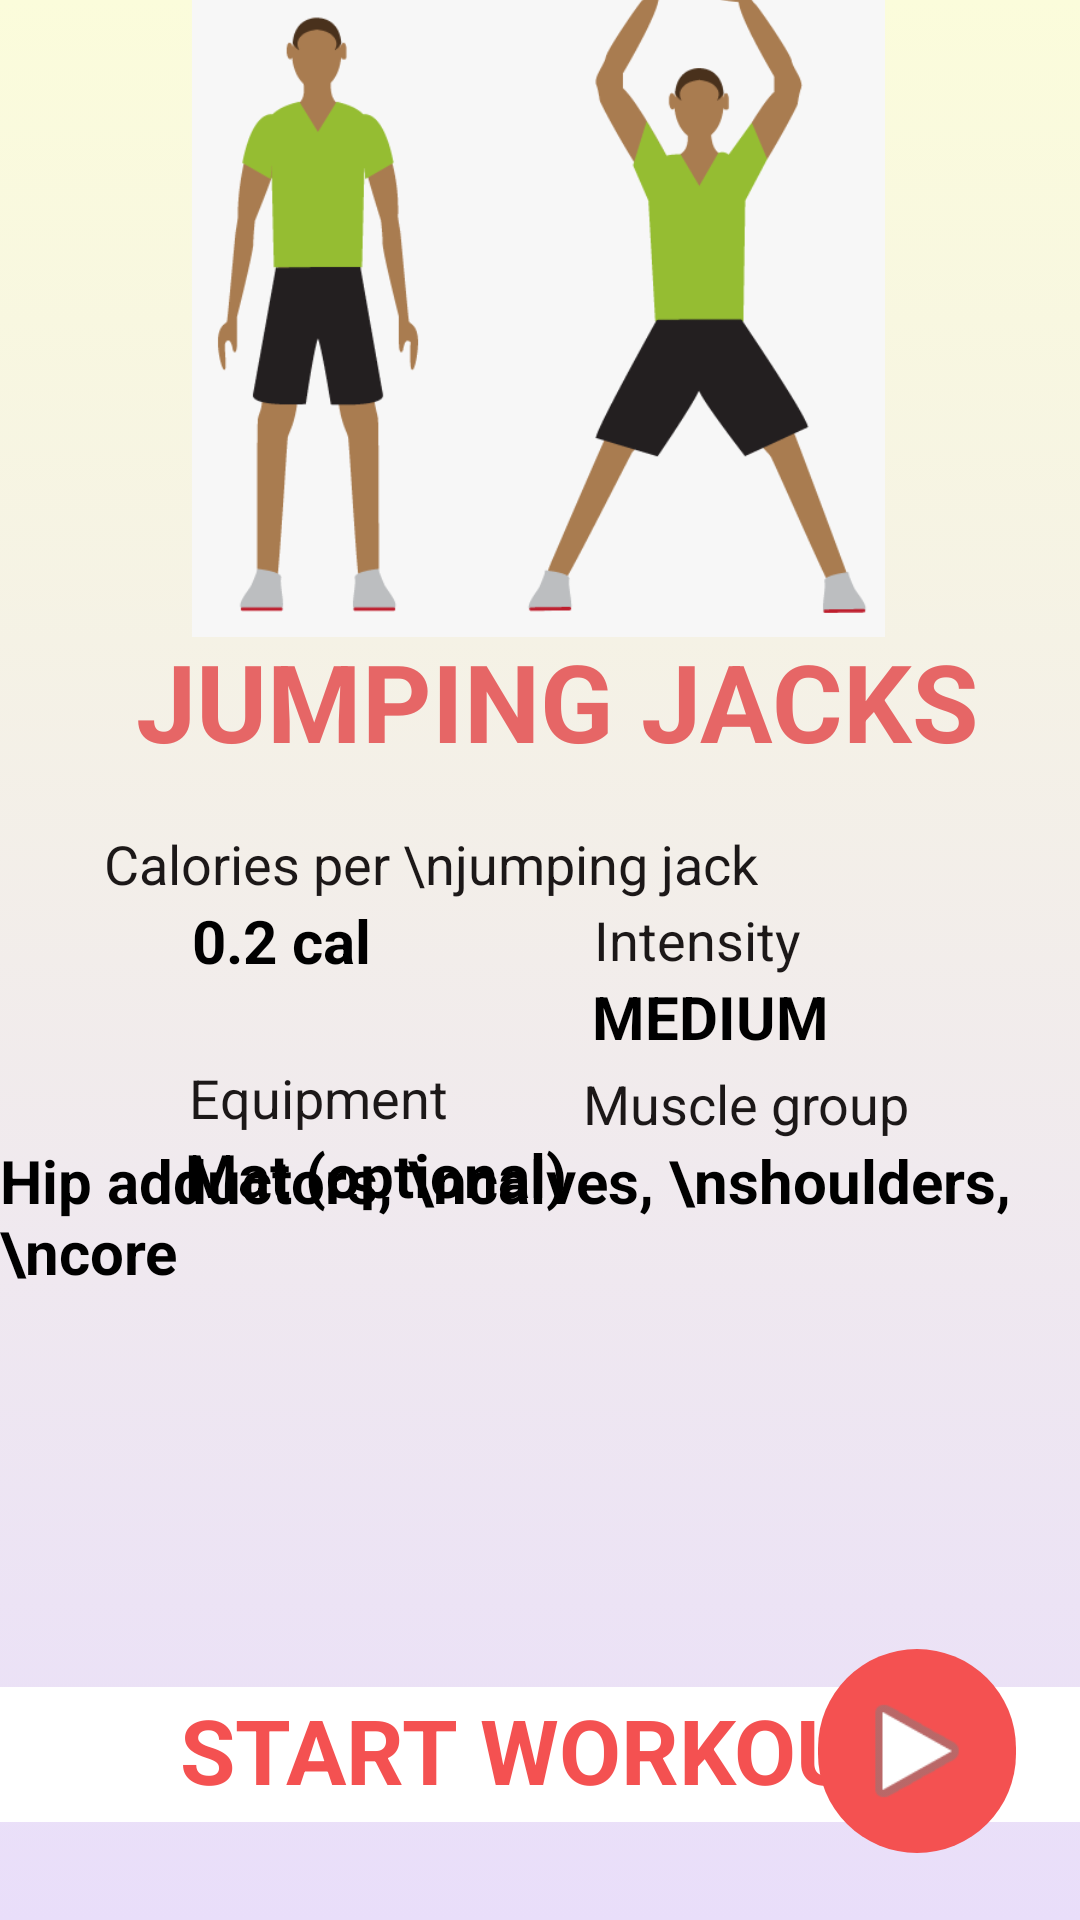

Where to tap for icons on this 1080w x 1920h app screen, as [x,y]:
play: [917,1751]
